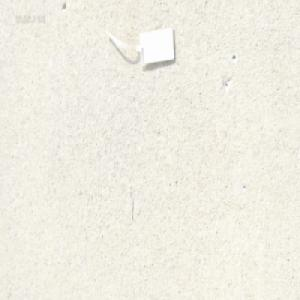LuggageTag: (102, 23, 176, 70)
